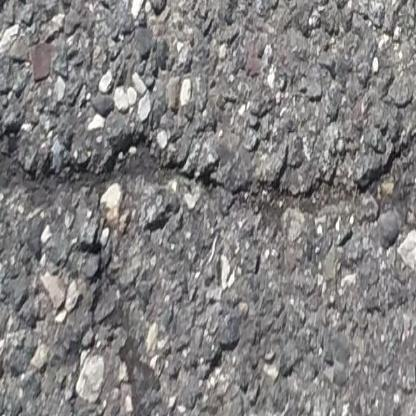Cracks: (0, 79, 416, 288)
